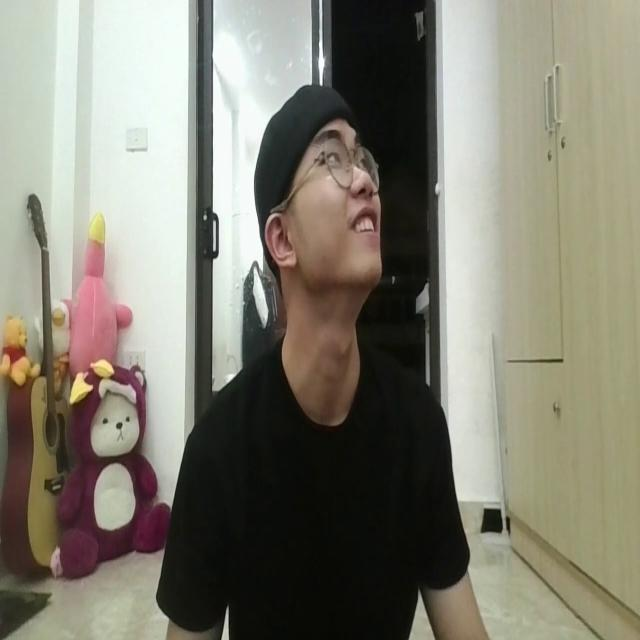student: (150, 79, 492, 640)
